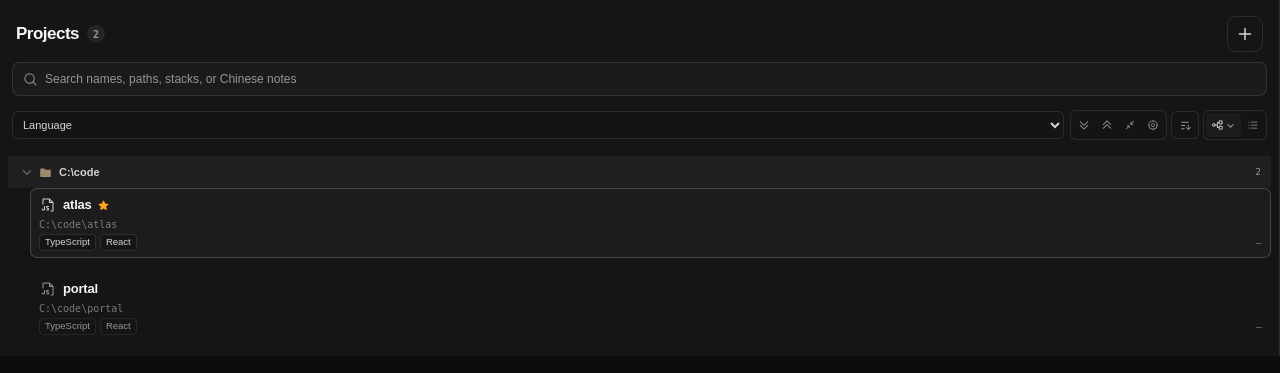
Test: ProjectList tree › expands and collapses every group from the tree tools
Expected: the list item "atlas" is shown, [8,188,1271,258]
Click the button named "Collapse all": click(1107, 125) [1096,113,1118,137]
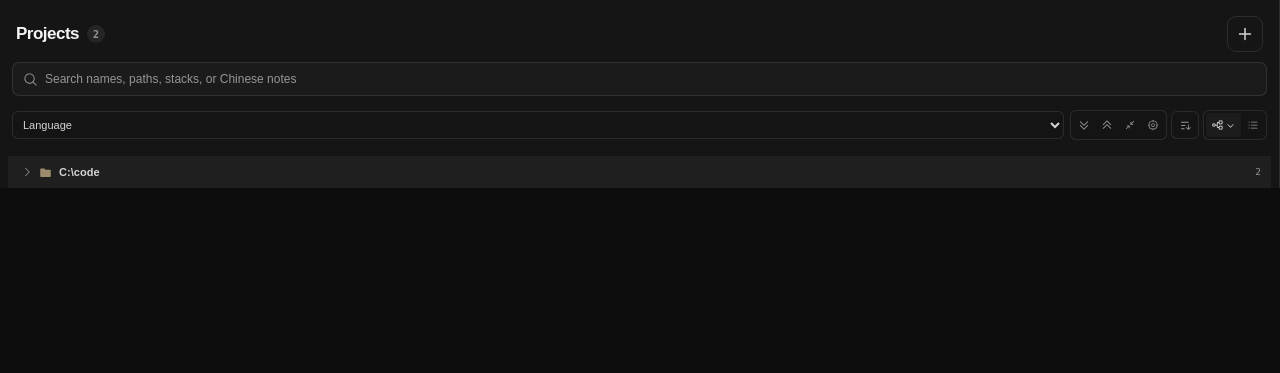
Expected: the button named "Jump to selected project" is enabled, [1142,113,1164,137]
Expected: the button "atlas" is gone
Click the button named "Expand all": click(1084, 125) [1073,113,1095,137]
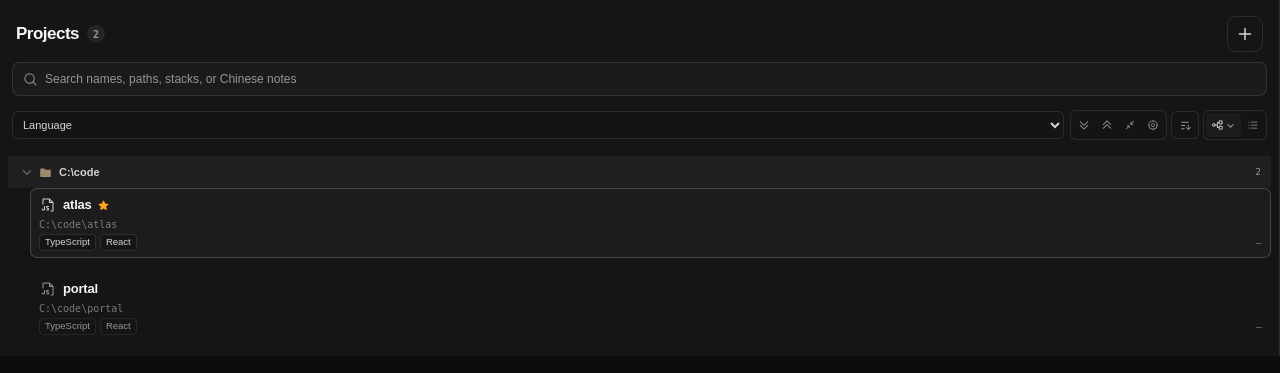
Expected: the list item "atlas" is shown, [8,188,1271,258]
Expected: the list item "portal" is shown, [8,272,1271,342]
